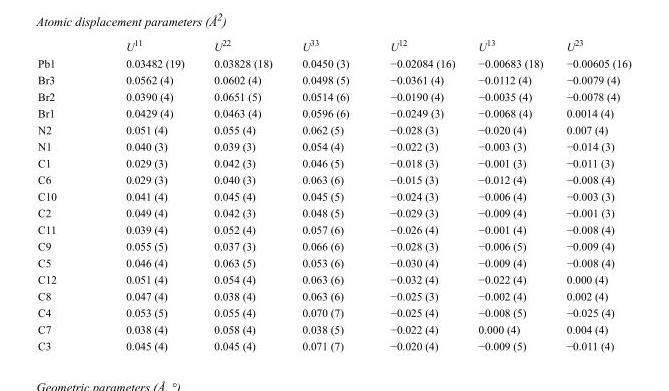table: (37, 37, 630, 351)
table column: (90, 37, 198, 351), (369, 37, 466, 351), (198, 37, 286, 351), (466, 37, 554, 351), (286, 37, 369, 351), (554, 37, 630, 351), (37, 37, 90, 351)
table column header: (37, 37, 630, 54)
table row: (37, 37, 630, 54), (37, 54, 630, 71), (37, 87, 630, 104), (37, 104, 630, 121), (37, 137, 630, 154), (37, 170, 630, 187), (37, 187, 630, 204), (37, 220, 630, 237), (37, 237, 630, 254), (37, 270, 630, 287), (37, 303, 630, 320), (37, 320, 630, 337), (37, 71, 630, 87), (37, 121, 630, 137), (37, 154, 630, 170), (37, 204, 630, 220), (37, 254, 630, 270), (37, 287, 630, 303), (37, 337, 630, 351)
